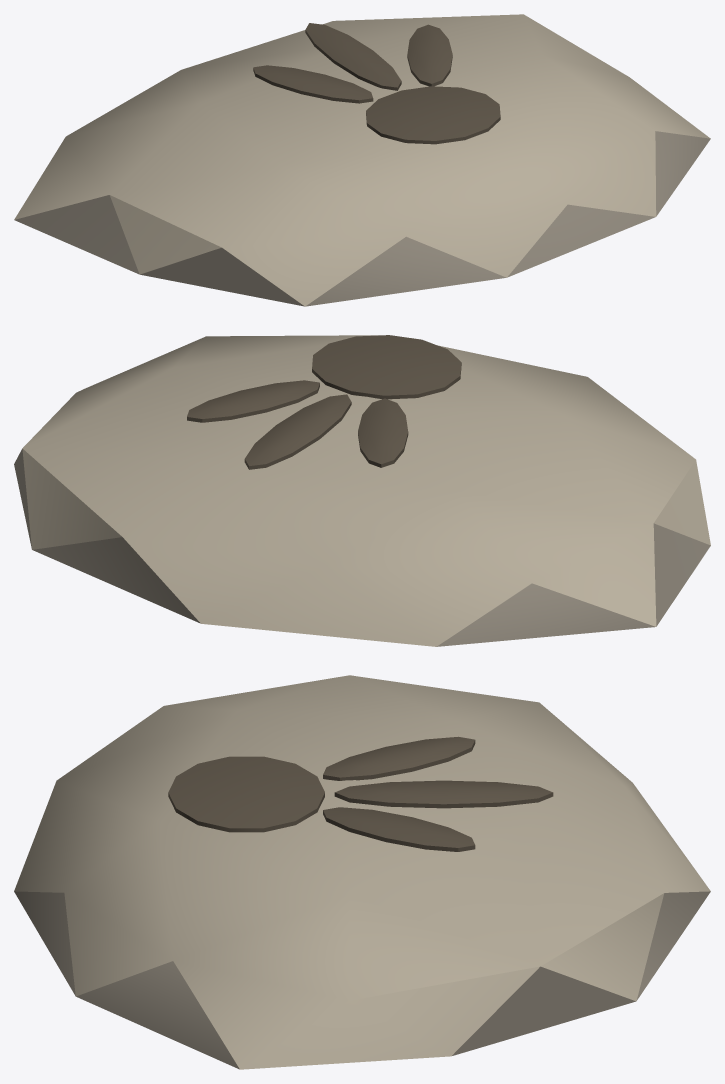
Rendered from footprint-slab.glb.
3 renders of one model, top to bottom at view 1: azimuth 30°, elevation 25°; view 2: azimuth 150°, elevation 25°; view 3: azimuth 270°, elevation 25°, orthographic. The views are drawn at different scales.
Parts seen in each view (by area): view 1: footprint-slab; view 2: footprint-slab; view 3: footprint-slab.
Boxes of the visible parts, left/top/right/bottom form: footprint-slab: left=14, top=14, right=710, bottom=306; footprint-slab: left=14, top=335, right=710, bottom=646; footprint-slab: left=14, top=675, right=710, bottom=1069.
Bounding box in the file's own units: 2.94 × 0.435 × 2.37.
